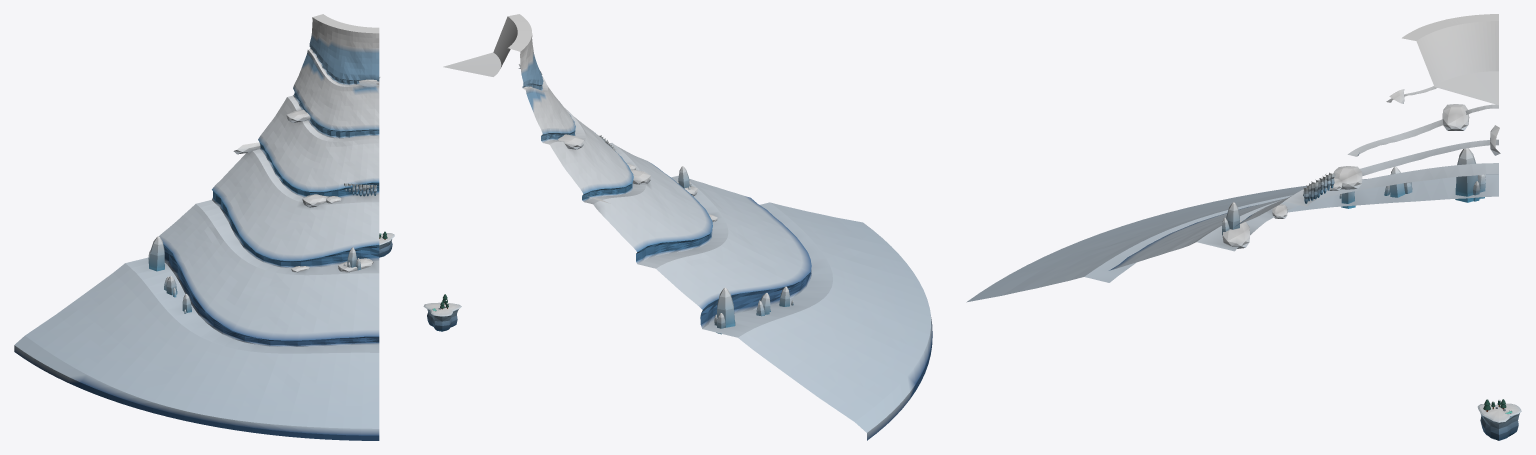
Rendered from glacier-s6-Dc1GzydF.glb.
3 renders of one model, left to right at view 1: azimuth 30°, elevation 25°; view 2: azimuth 150°, elevation 25°; view 3: azimuth 270°, elevation 25°, orthographic. The views are drawn at different scales.
Parts seen in each view (by area): view 1: sc_landmark_3; view 2: sc_landmark_3, sc_shelf_0; view 3: sc_landmark_3, sc_shelf_0.
Part boxes in pixels (bbox=[...]): sc_landmark_3: bbox=[14, 14, 380, 440]; sc_landmark_3: bbox=[443, 14, 932, 440]; sc_shelf_0: bbox=[423, 294, 461, 331]; sc_landmark_3: bbox=[966, 14, 1500, 302]; sc_shelf_0: bbox=[1477, 399, 1521, 440].
Size of the model in its own units: 434 by 286 by 376.
